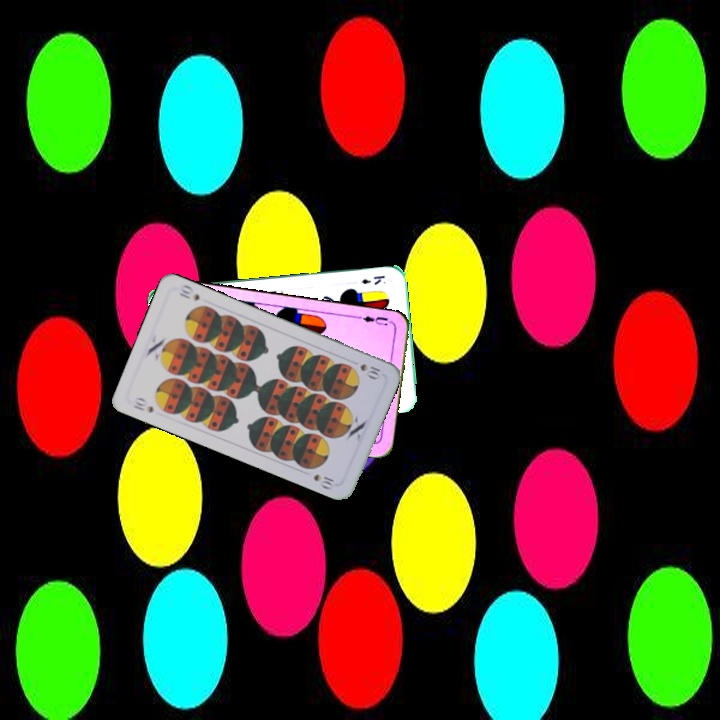EK: (358, 271, 387, 287)
EU: (354, 310, 390, 328)
S10: (356, 359, 383, 382), (129, 393, 156, 415)
